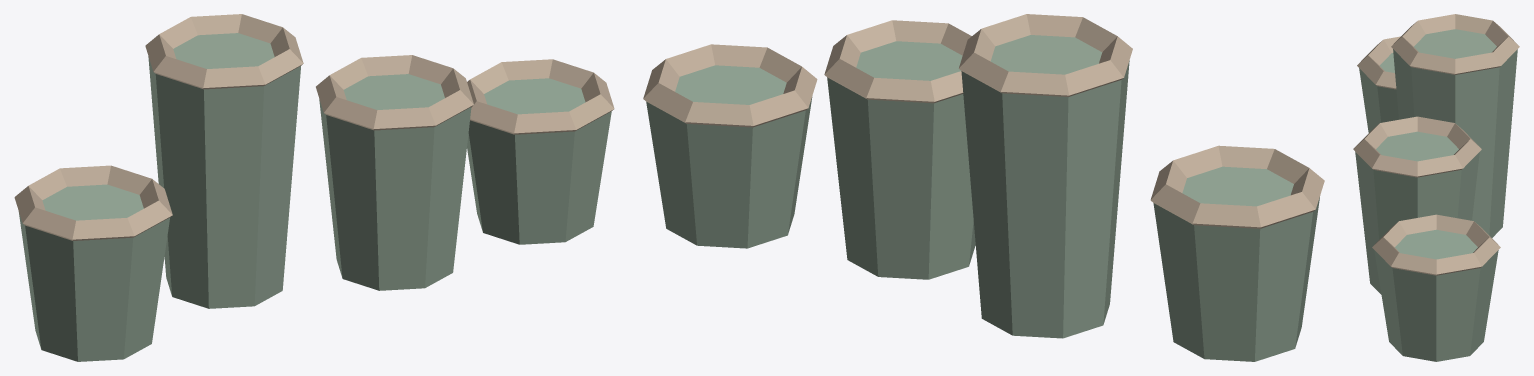
File: map-exclusive-v3__tide_16.glb
3 renders of one model, left to right at view 1: azimuth 30°, elevation 25°; view 2: azimuth 150°, elevation 25°; view 3: azimuth 270°, elevation 25°, orthographic. The views are drawn at different scales.
Parts seen in each view (by area): view 1: tide_16; view 2: tide_16; view 3: tide_16.
Boxes of the visible parts, x1,y1,x2,y2 form: tide_16: (14, 14, 614, 361); tide_16: (643, 14, 1324, 361); tide_16: (1353, 14, 1519, 361).
Bounding box in the file's own units: 2.84 × 1.11 × 0.8799.
